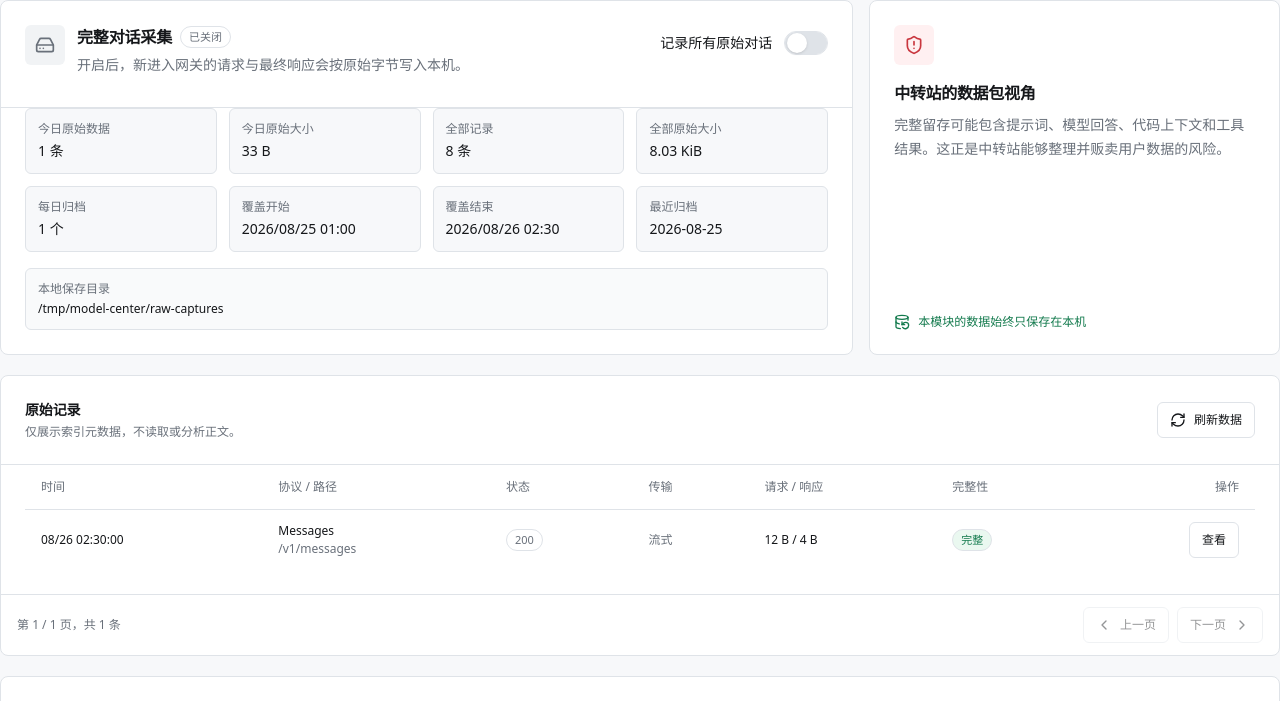
Test: RawDataClient › counts preview bytes without re-encoding and renders non-text responses as deterministic hex
Click the button "查看".
click(1214, 540)  # box [1189,522,1239,558]
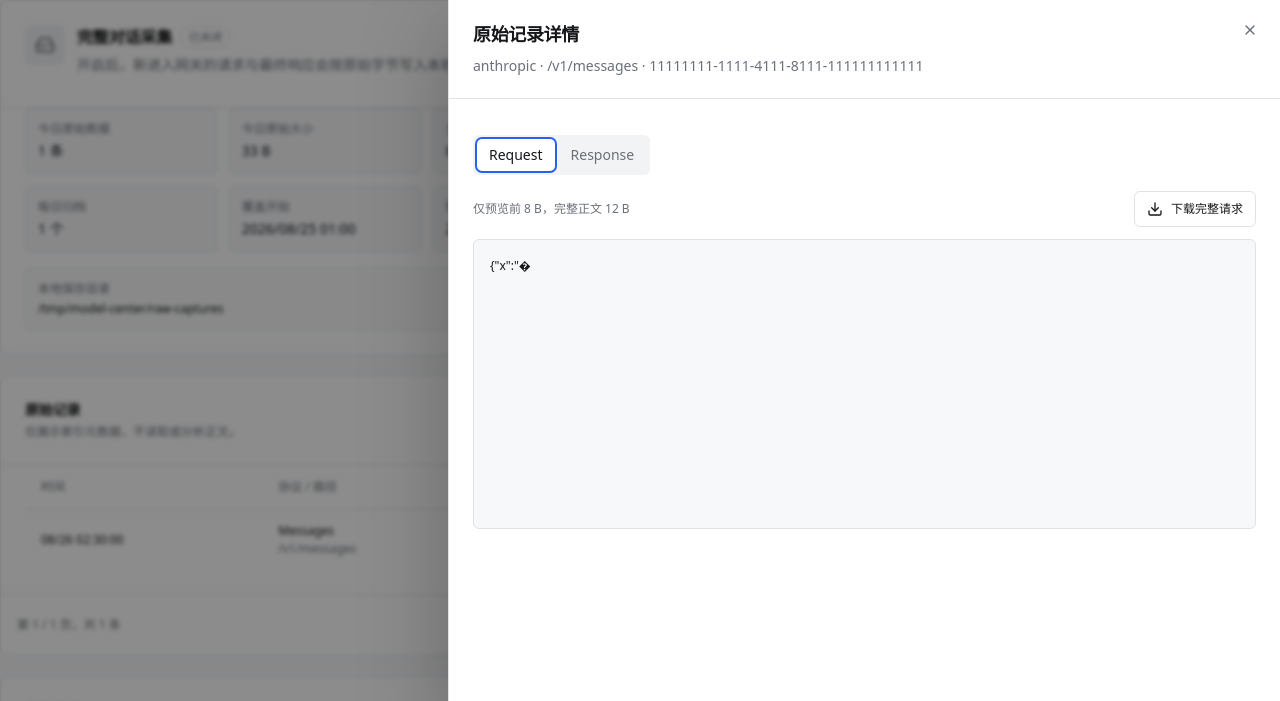
Result: the text "{\"x\":\"�" is shown at [490,257,531,274]
Result: the text "仅预览前 8 B，完整正文 12 B" is shown at [473,201,630,217]
Click the tab "Response".
click(602, 155)  # box [558,139,646,171]
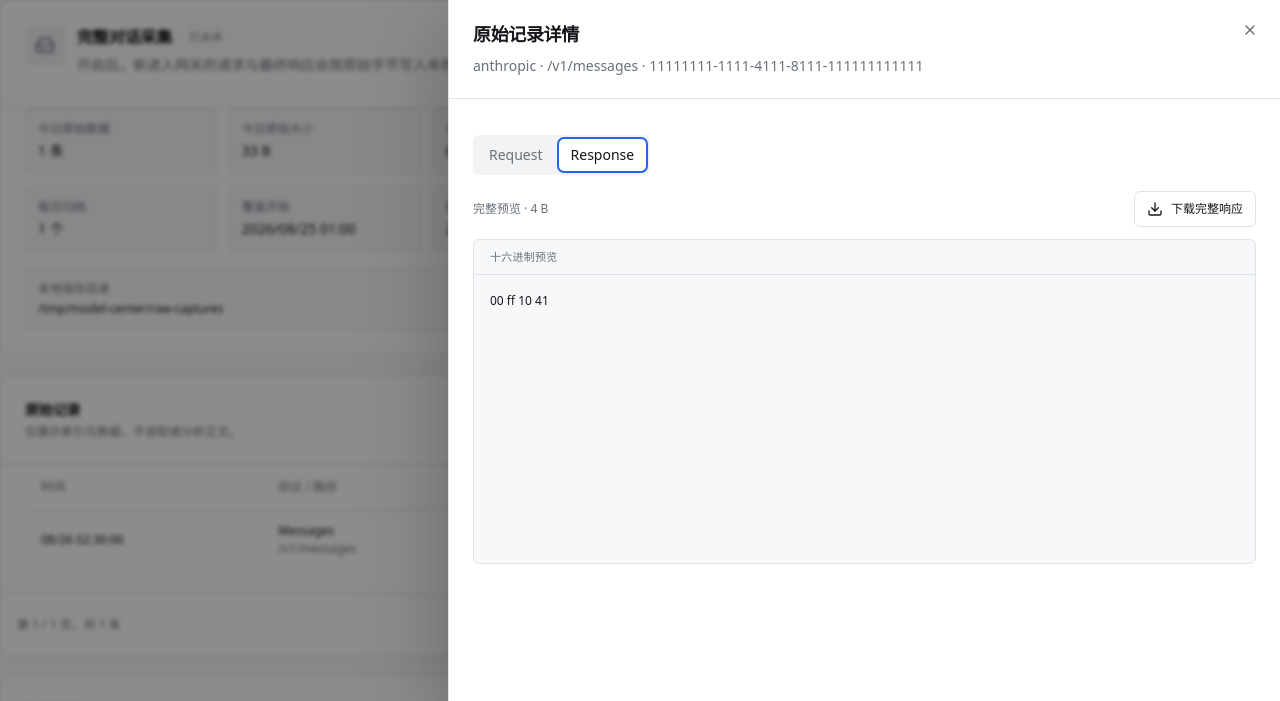
Result: the text "十六进制预览" is shown at [474,240,1255,275]
Result: the text "00 ff 10 41" is shown at [490,292,549,309]
Result: the text "完整预览 · 4 B" is shown at [473,201,548,217]
